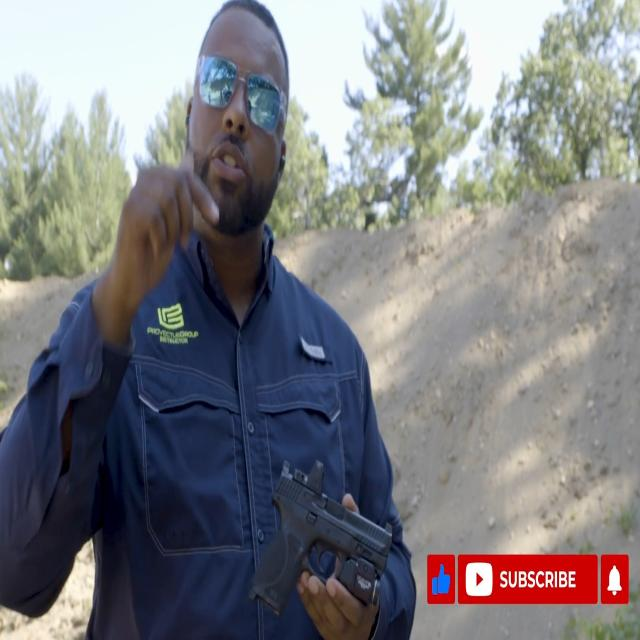Gun_Holder: (238, 448, 388, 633)
Person: (0, 0, 418, 640)
